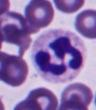N: (33, 28, 86, 82)
